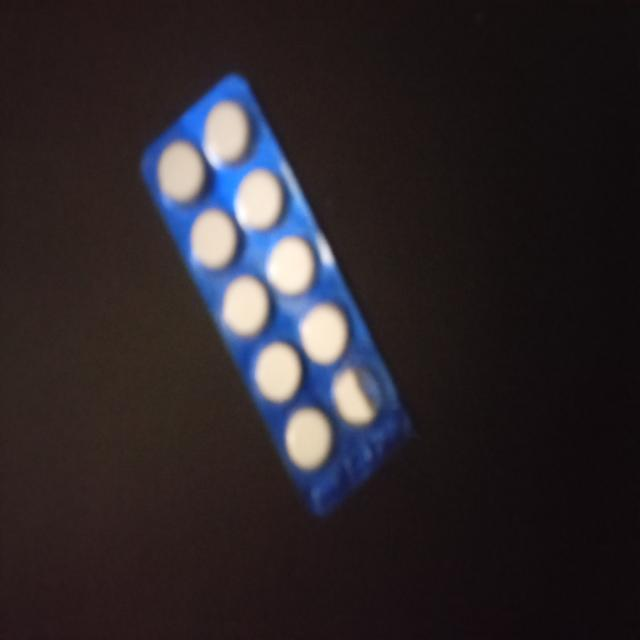defect: (329, 359, 387, 430)
